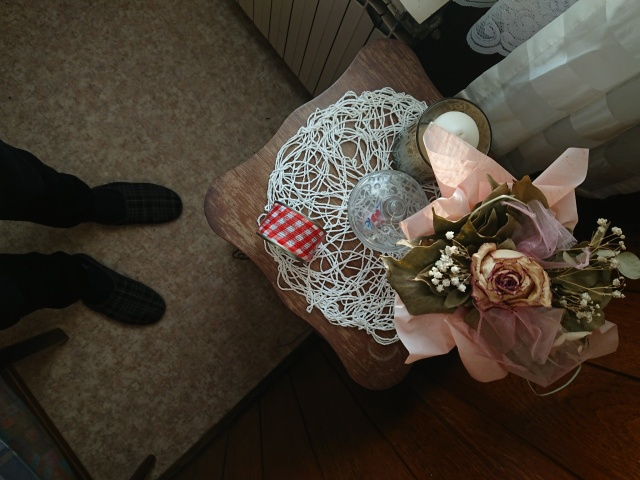Podravka Luncheon Meat 150g: (254, 199, 330, 268)
